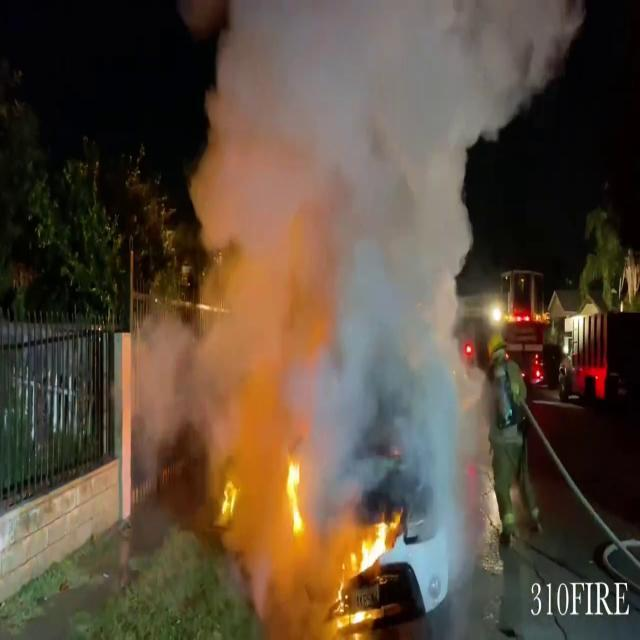Fire: (342, 507, 404, 582), (284, 458, 306, 538)
Smoke: (130, 0, 514, 484)
